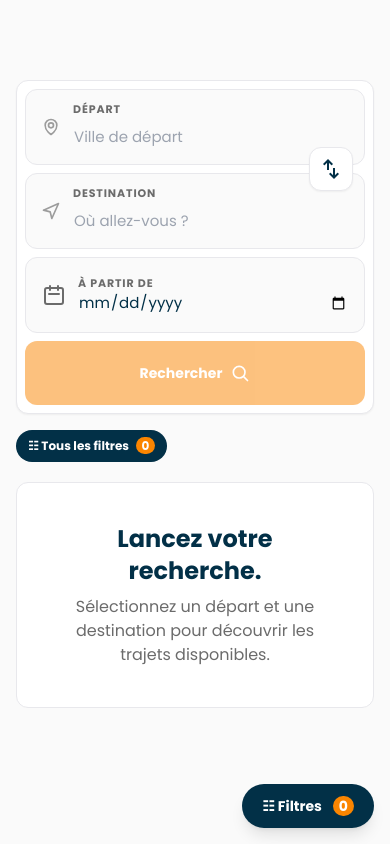
Test: SearchPageComponent › opens the same panel from the floating button and removes applied bounds
Click the button with test id "mobile-filters-floating" at (308, 806), box left=242, top=784, right=374, bottom=828
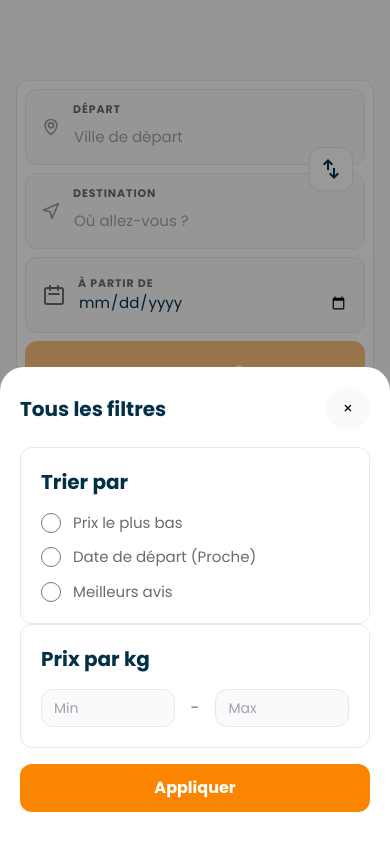
Expected: the dialog is shown, left=0, top=366, right=389, bottom=843
